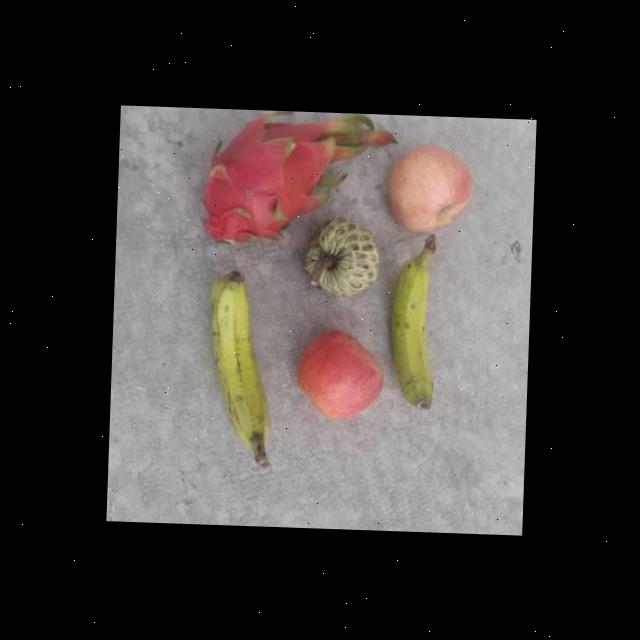Sakya fruit: (298, 214, 381, 295)
apple: (286, 322, 386, 422), (382, 142, 476, 238)
banana: (200, 264, 278, 442), (383, 245, 448, 410)
pitaya: (198, 114, 342, 248)
